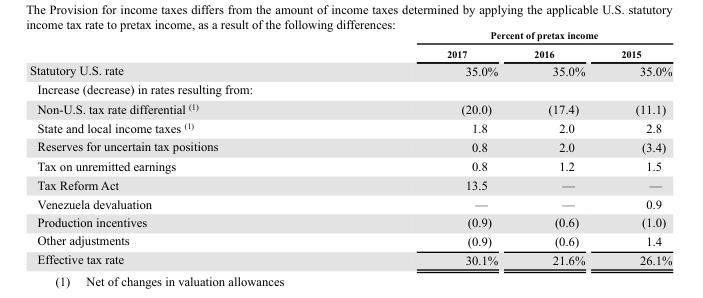table: (28, 28, 671, 267)
table column: (28, 28, 331, 267), (331, 28, 515, 267), (515, 28, 602, 267), (602, 28, 671, 267)
table column header: (28, 28, 671, 60)
table projected row header: (28, 79, 671, 98)
table row: (28, 98, 671, 118), (28, 60, 671, 79), (28, 79, 671, 98), (28, 136, 671, 155), (28, 155, 671, 174), (28, 174, 671, 193), (28, 193, 671, 212), (28, 212, 671, 231), (28, 231, 671, 250), (28, 118, 671, 136), (28, 43, 671, 60), (28, 250, 671, 267), (28, 28, 671, 43)
table spanning cell: (331, 28, 671, 43)
